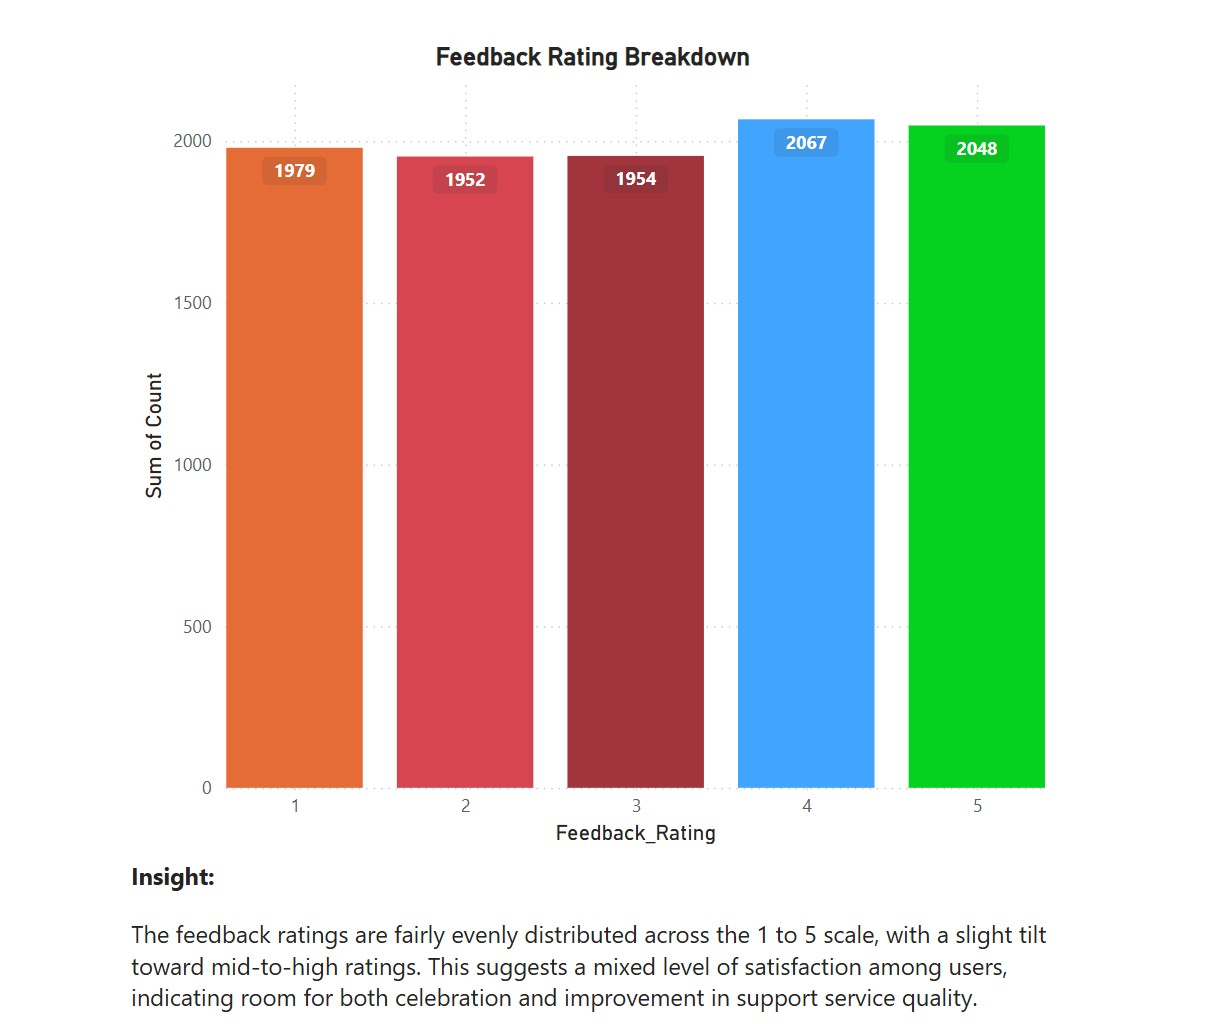

Layout of this report page (visuals, bound fields, positions):
{"tool":"powerbi","page":{"name":"Feedback Rating Breakdown","canvas":[1280,720],"ordinal":1},"visuals":[{"type":"clusteredColumnChart","title":"Feedback Rating Breakdown","fields":{"Category":["feedback_distribution csv.Feedback_Rating"],"Y":["Sum(feedback_distribution csv.Count)"]},"box":[210.7,45.6,620.1,547.1],"z":0},{"type":"textbox","box":[203.7,592.7,634.3,127.7],"z":1}]}

Visuals, with their boxes on the page's 1280x720 design canvas (x1, y1, x2, y2). These are canvas units, not pixel positions in the 1214x1024 screenshot, which may show the page scaled, cropped or inside an application window:
"Feedback Rating Breakdown" clusteredColumnChart: (211,46,831,593)
textbox: (204,593,838,720)
